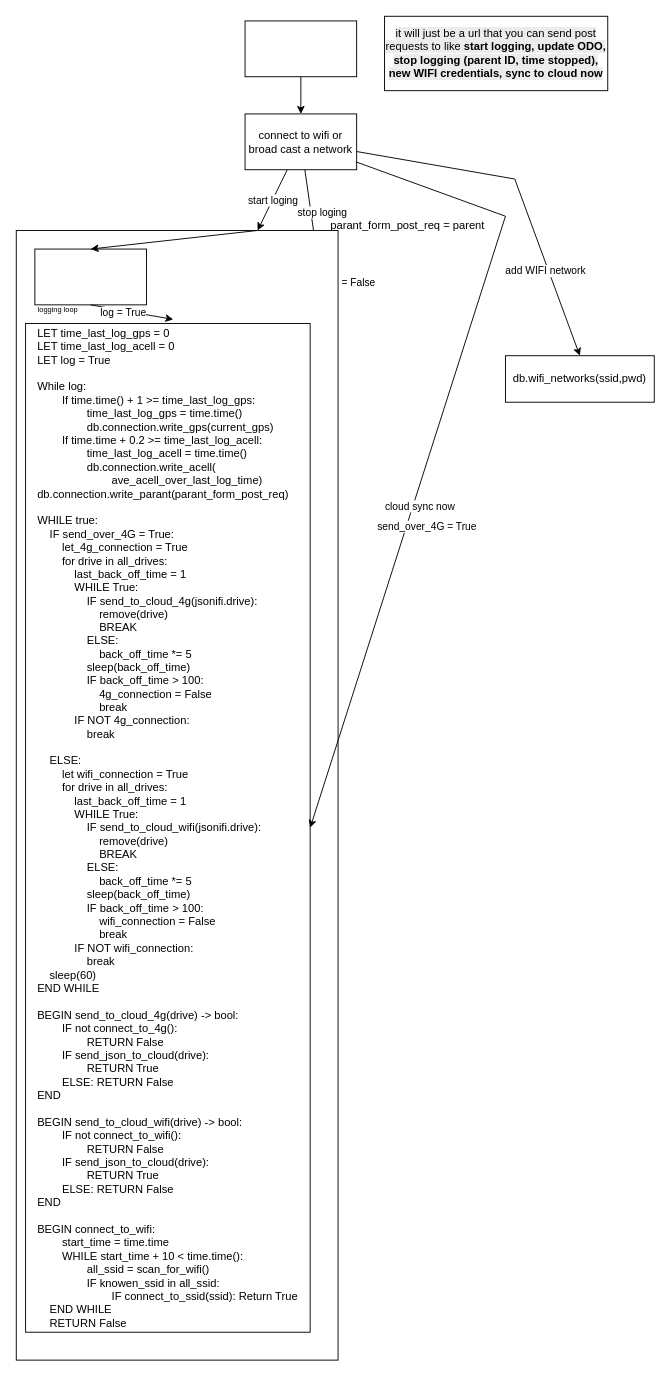
This 671x1376 diagram has some shape labels left out. Here are the shapes that lost their labels. From the top down, the box of each, then its label:
(244, 20, 357, 77): server
(34, 248, 146, 305): write start time write parent (optinal)
